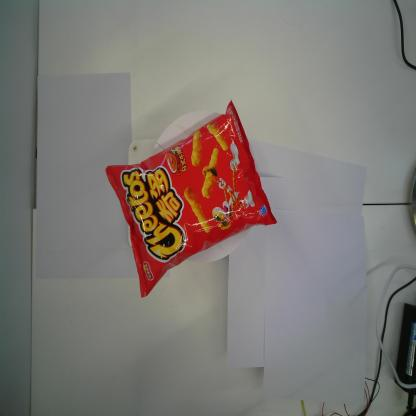Puffed Food: (104, 99, 277, 298)
